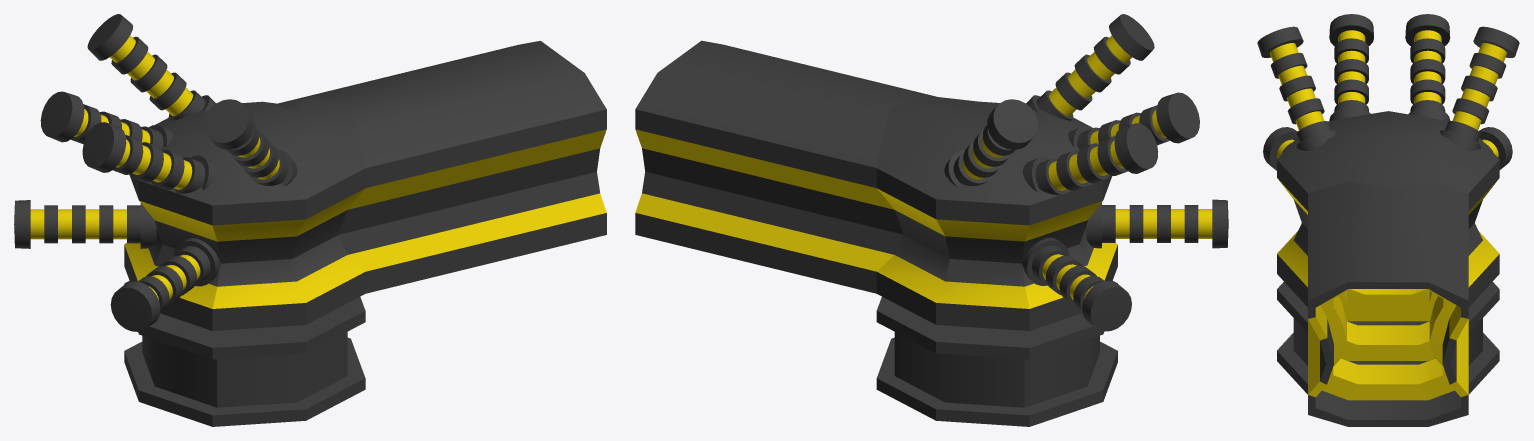
Rendered from Ref the Turret 1 SNAPSHOT.fbx.
3 renders of one model, left to right at view 1: azimuth 30°, elevation 25°; view 2: azimuth 150°, elevation 25°; view 3: azimuth 270°, elevation 25°, orthographic. The views are drawn at different scales.
Visible parts, largest first — view 1: pCube3; view 2: pCube3; view 3: pCube3.
Boxes of the visible parts, <box> form: pCube3: <box>14,14,606,426</box>; pCube3: <box>635,14,1228,426</box>; pCube3: <box>1257,14,1519,426</box>.
Size of the model in its own units: 4065 by 2592 by 2030.
